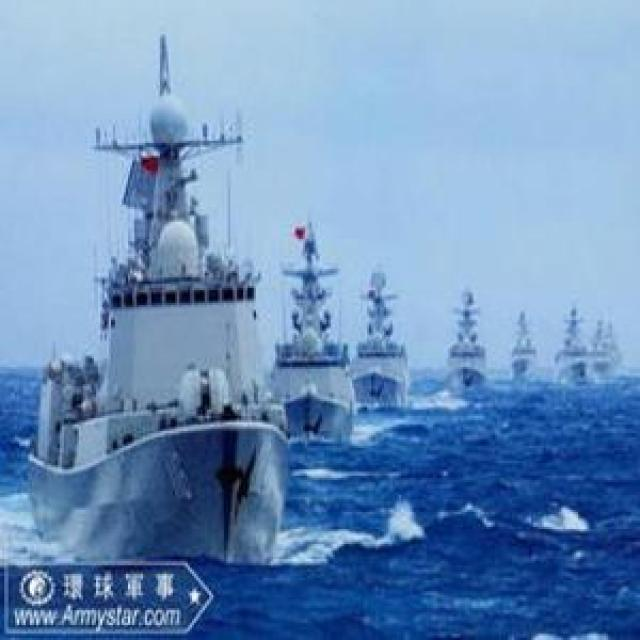navalvessels: (29, 33, 289, 574), (272, 209, 359, 445), (339, 256, 409, 404), (436, 284, 489, 390), (552, 300, 587, 388), (502, 309, 540, 388), (586, 304, 622, 379)
